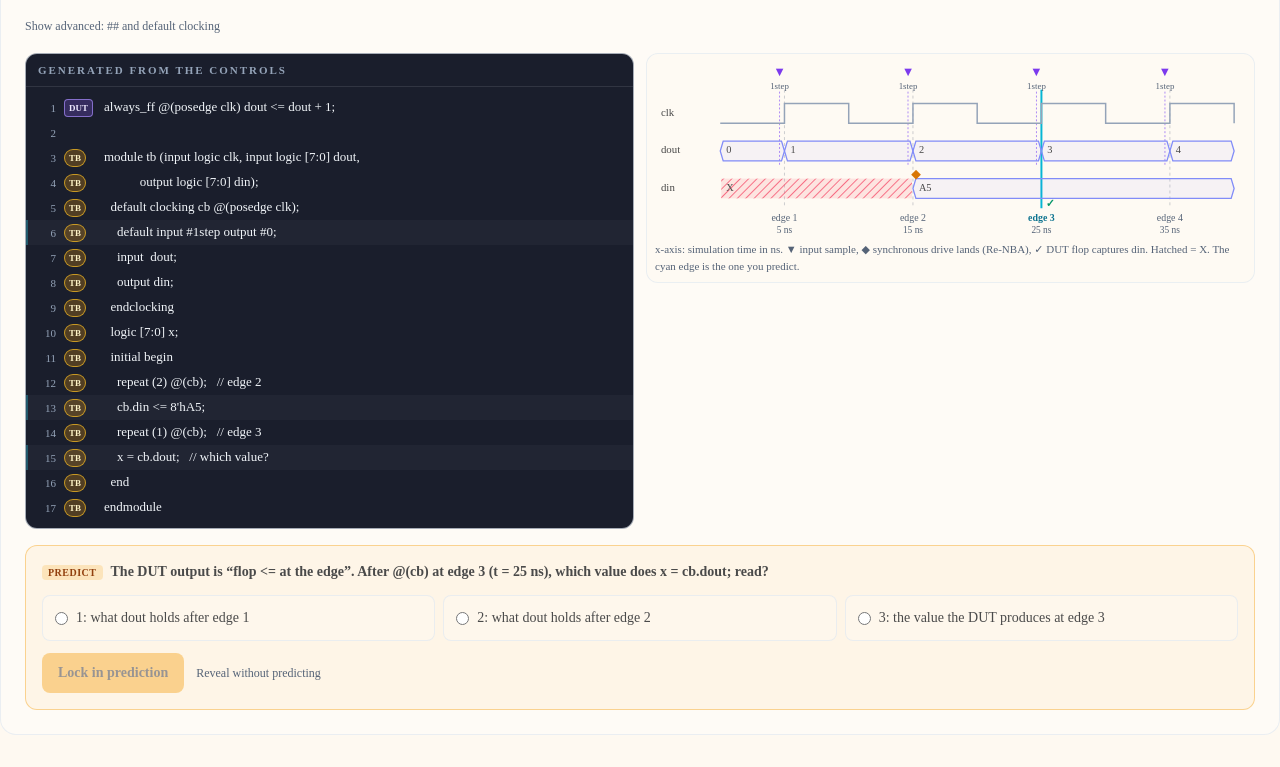
Test: ClockingBlockSkewVisualizer › hides the cb.dout row and the comparison until a prediction is locked in
(page scrolled)
Expected: the text "cb.dout = 2" is not shown
Click the radio button labelled "2: what dout holds after edge 2": [463, 618] box [456,612,469,625]
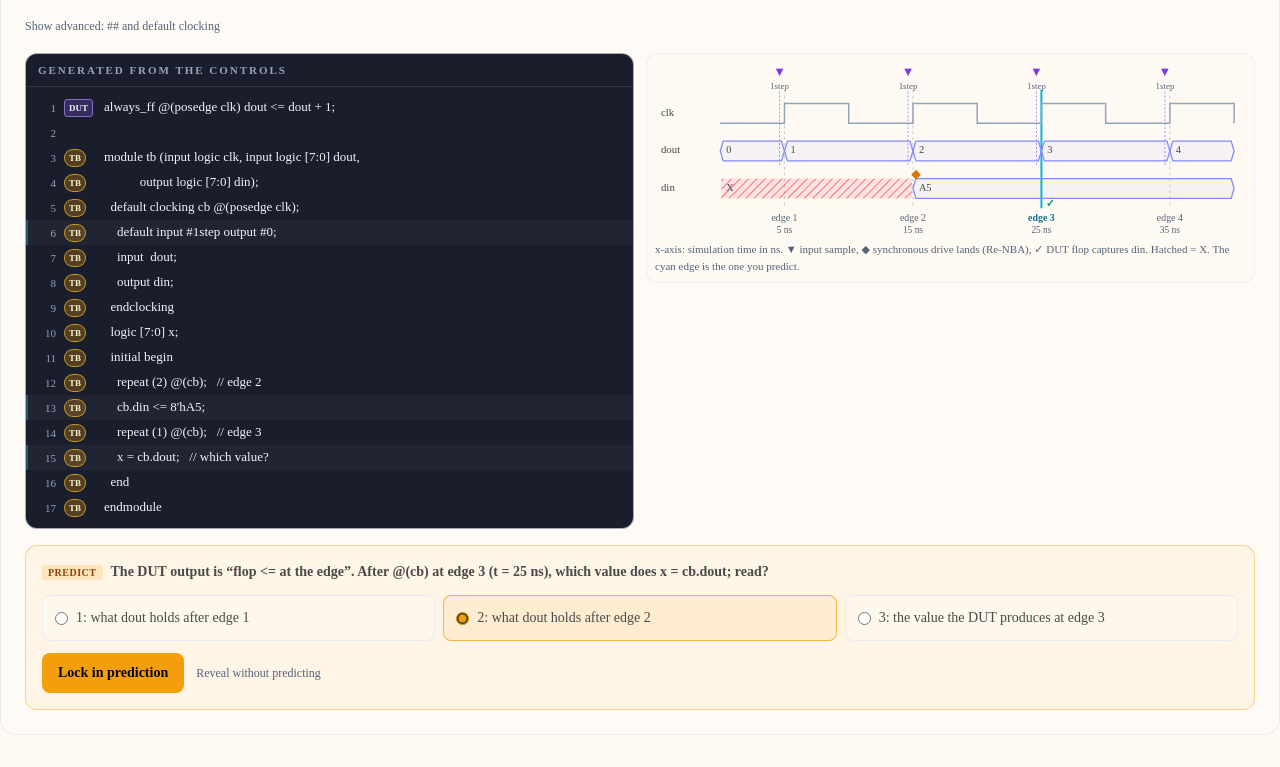
Click the button "Lock in prediction": [113, 673] box [42,653,184,693]
(page scrolled)
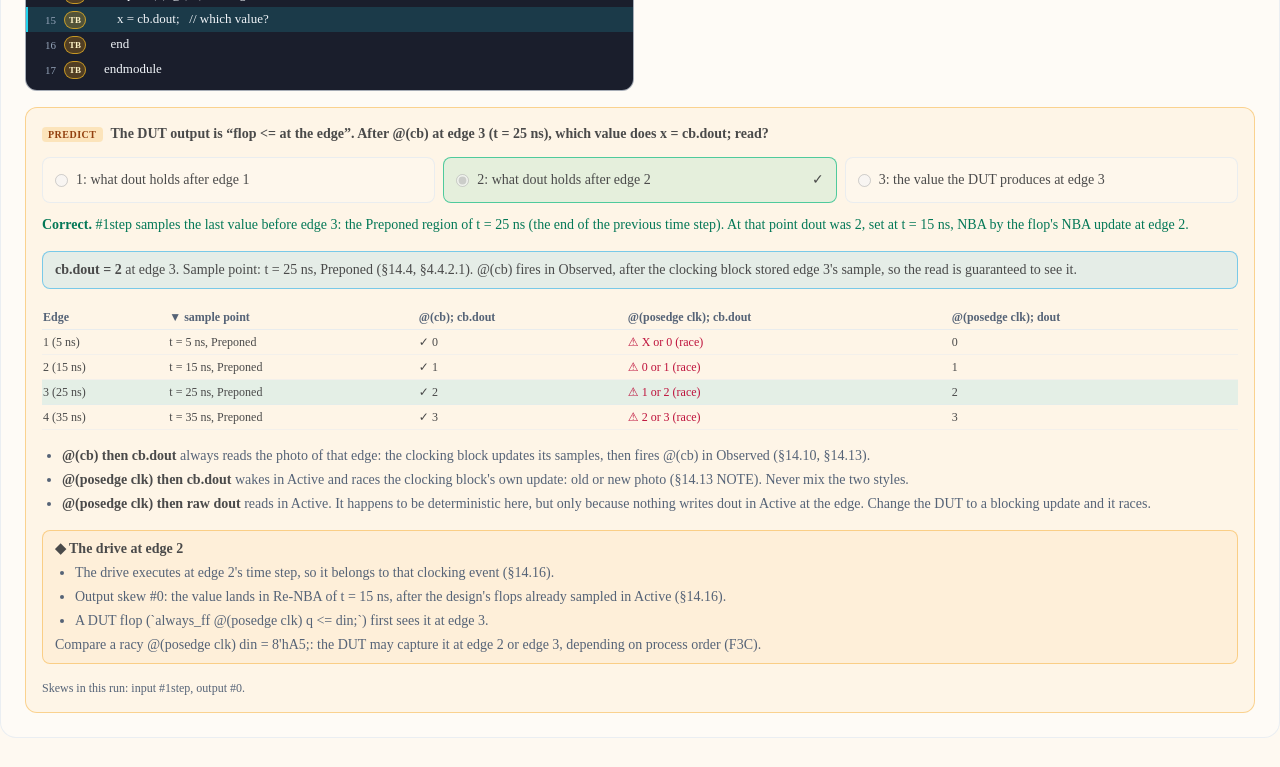
Expected: the text "Correct." is shown, [42,217,95,232]
Expected: the text "cb.dout = 2" is shown, [55,262,122,277]
Expected: the table is shown, [42,305,1238,430]
